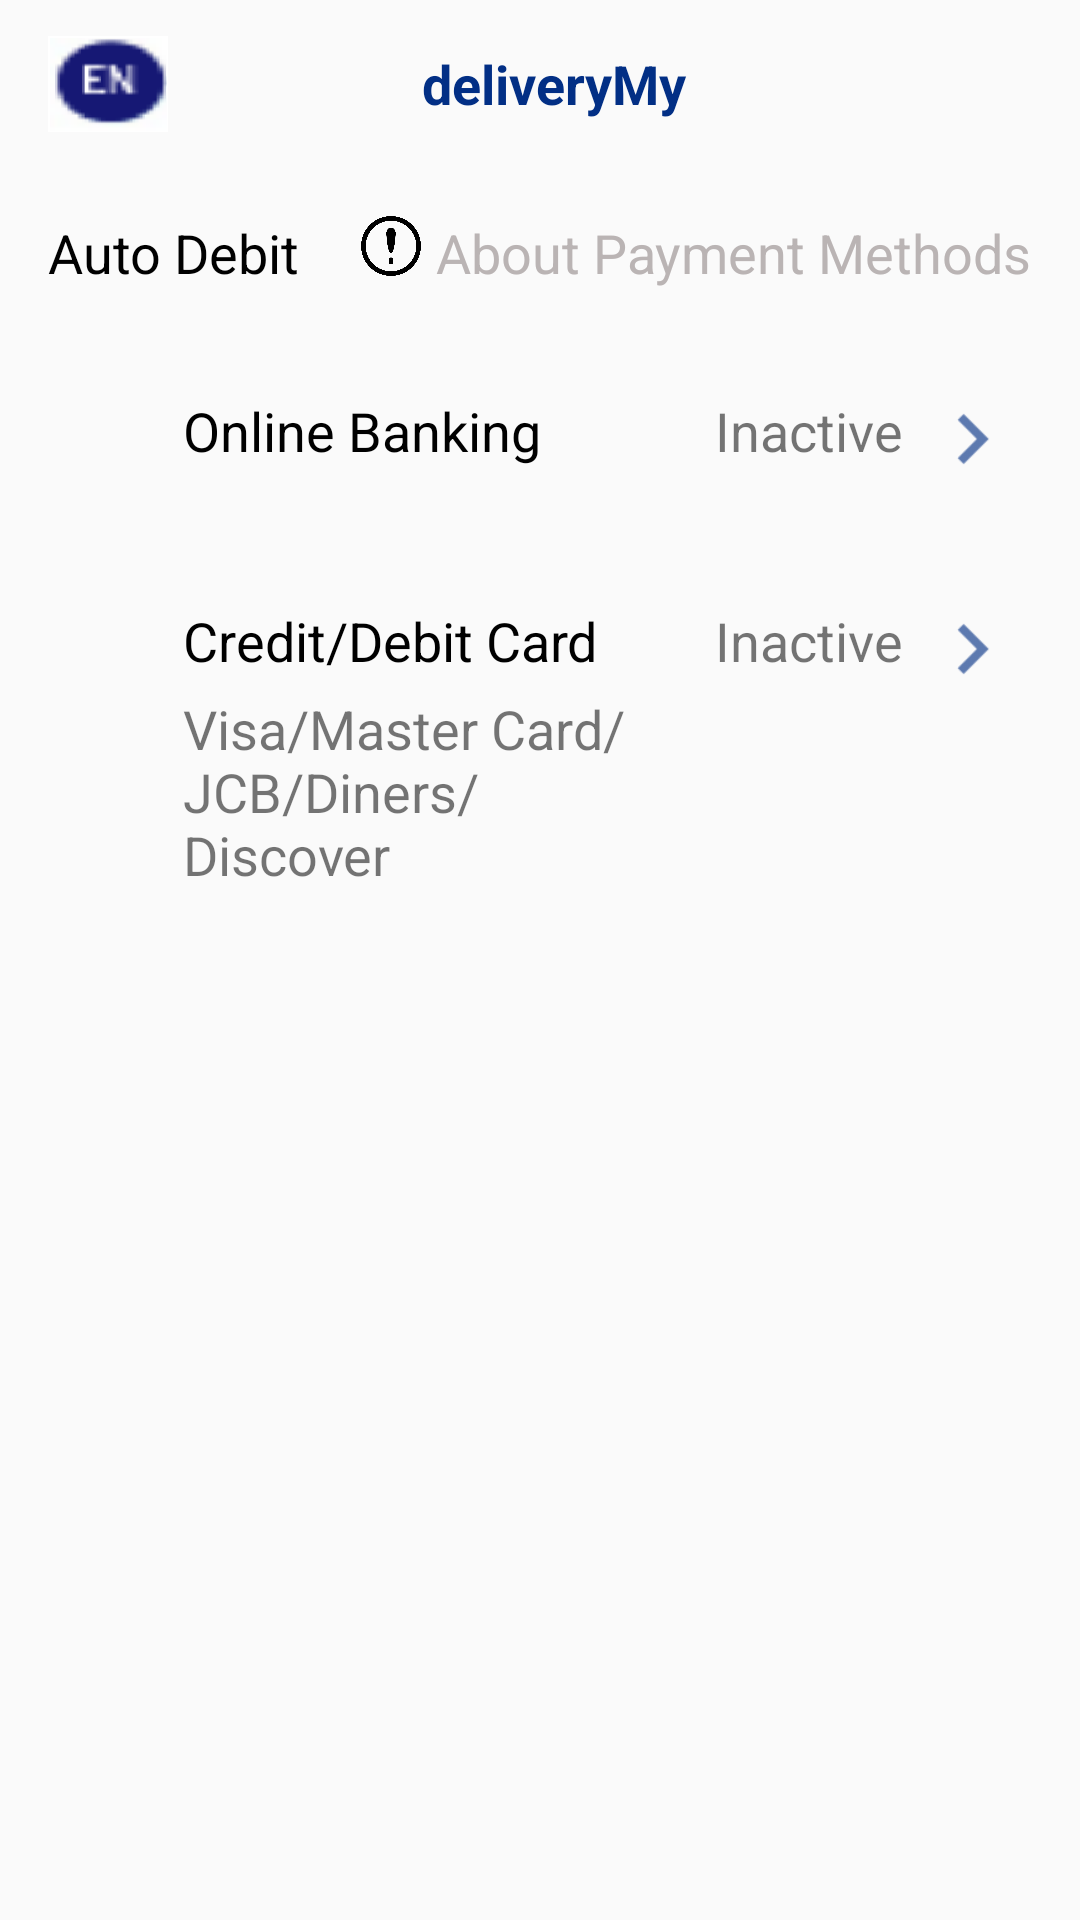

Named icons in this screenshot (1080x1920) and their bounding boxes, Rect(x1, y1, x2, y2):
exclamation: Rect(361, 216, 421, 276)
next: Rect(958, 414, 989, 464), Rect(958, 624, 989, 674)
